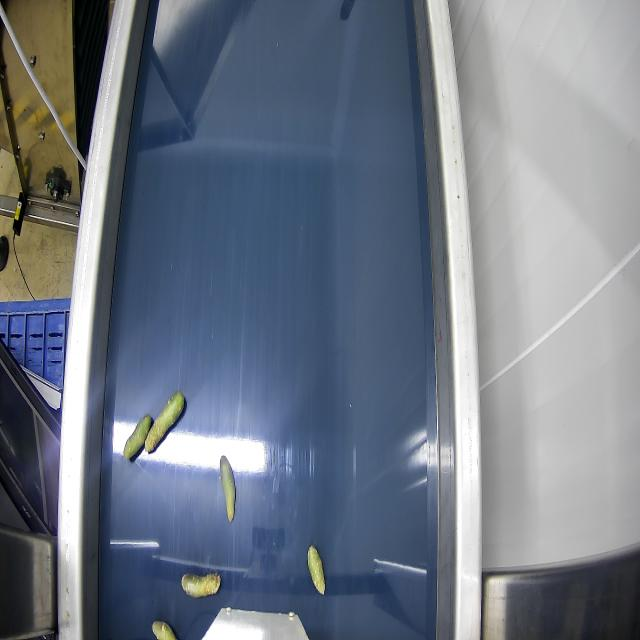Baby Potato: (146, 390, 186, 456), (120, 416, 152, 460), (218, 454, 236, 524), (307, 537, 325, 600), (181, 572, 221, 596), (152, 616, 176, 640)
